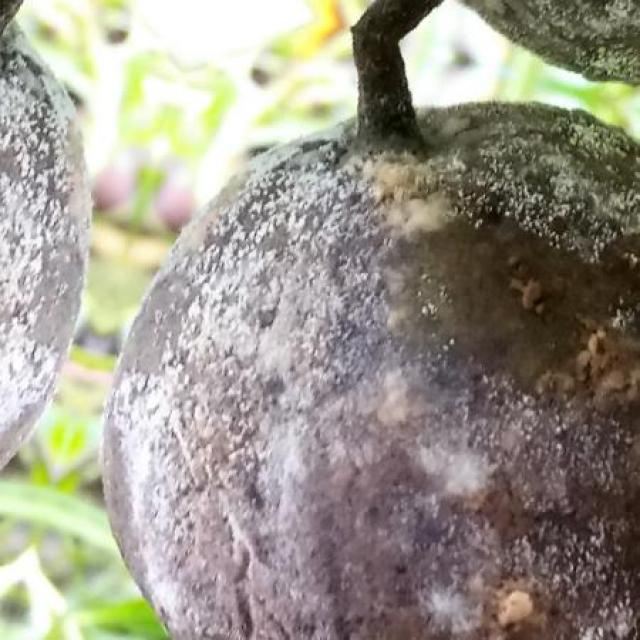Phytopthora: (104, 0, 640, 640), (0, 22, 90, 467), (464, 0, 640, 84)
